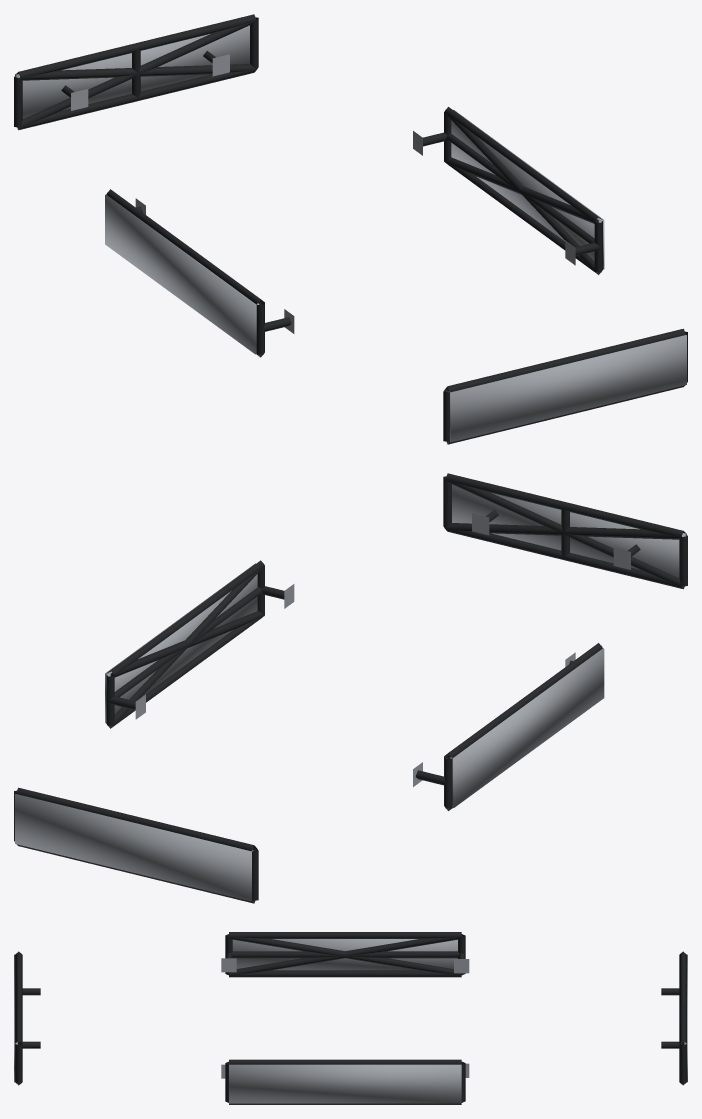
The model's file is taurenza_alabastro_protecao.glb.
3 renders of one model, top to bottom at view 1: azimuth 30°, elevation 25°; view 2: azimuth 150°, elevation 25°; view 3: azimuth 270°, elevation 25°, orthographic. The views are drawn at different scales.
Visible parts, largest first — view 1: Protection_front_Level3_Details, Protection_left_Level3_Details, Protection_rear_Level1_Details, Protection_rear_Level3_Details, Protection_right_Level1_Details, Protection_rear_Level2_Details, Protection_right_Level2_Details, Protection_right_Level3_Details, Protection_front_Level1_Details, Protection_left_Level1_Details; view 2: Protection_rear_Level3_Details, Protection_left_Level3_Details, Protection_front_Level1_Details, Protection_front_Level3_Details, Protection_right_Level1_Details, Protection_front_Level2_Details, Protection_right_Level2_Details, Protection_right_Level3_Details, Protection_rear_Level1_Details, Protection_left_Level1_Details; view 3: Protection_right_Level3_Details, Protection_left_Level2_Details, Protection_left_Level1_Details, Protection_left_Level3_Details, Protection_right_Level1_Details, Protection_rear_Level1_Details, Protection_front_Level1_Details.
Boxes of the visible parts, bbox=[...] form: Protection_front_Level3_Details: bbox=[448, 335, 686, 442]; Protection_left_Level3_Details: bbox=[105, 194, 259, 354]; Protection_rear_Level1_Details: bbox=[14, 14, 258, 130]; Protection_rear_Level3_Details: bbox=[15, 25, 249, 118]; Protection_right_Level1_Details: bbox=[413, 107, 602, 274]; Protection_rear_Level2_Details: bbox=[16, 21, 255, 129]; Protection_right_Level2_Details: bbox=[444, 112, 602, 274]; Protection_right_Level3_Details: bbox=[451, 110, 604, 269]; Protection_front_Level1_Details: bbox=[443, 328, 687, 444]; Protection_left_Level1_Details: bbox=[106, 189, 294, 357]; Protection_rear_Level3_Details: bbox=[15, 794, 253, 901]; Protection_left_Level3_Details: bbox=[450, 648, 604, 807]; Protection_front_Level1_Details: bbox=[443, 473, 687, 589]; Protection_front_Level3_Details: bbox=[452, 484, 686, 577]; Protection_right_Level1_Details: bbox=[106, 560, 294, 728]; Protection_front_Level2_Details: bbox=[446, 480, 685, 588]; Protection_right_Level2_Details: bbox=[107, 567, 264, 727]; Protection_right_Level3_Details: bbox=[105, 563, 257, 723]; Protection_rear_Level1_Details: bbox=[14, 787, 258, 903]; Protection_left_Level1_Details: bbox=[413, 643, 602, 810]; Protection_right_Level3_Details: bbox=[229, 1064, 461, 1103]; Protection_left_Level2_Details: bbox=[228, 935, 461, 975]; Protection_left_Level1_Details: bbox=[221, 932, 469, 977]; Protection_left_Level3_Details: bbox=[232, 939, 457, 970]; Protection_right_Level1_Details: bbox=[221, 1059, 469, 1104]; Protection_rear_Level1_Details: bbox=[661, 951, 686, 1085]; Protection_front_Level1_Details: bbox=[15, 951, 40, 1085].
Bounding box in the file's own units: 2.21 × 0.354 × 4.78.
1 material, 1 textured.
